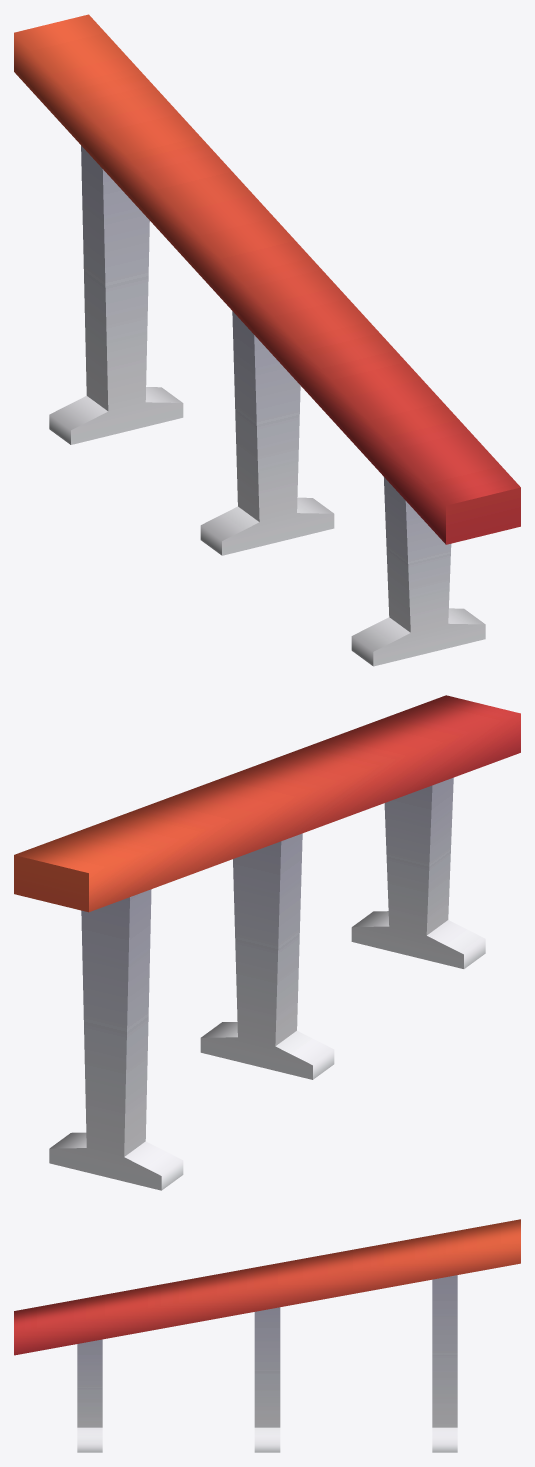
Rendered from rail-slope.glb.
The picture shows the model from 3 angles, top to bottom: view 1: azimuth 30°, elevation 25°; view 2: azimuth 150°, elevation 25°; view 3: azimuth 270°, elevation 25°; orthographic projection. The views are drawn at different scales.
Parts seen in each view (by area): view 1: rail-slope; view 2: rail-slope; view 3: rail-slope.
Boxes of the visible parts, x1,y1,x2,y2 form: rail-slope: [14, 14, 520, 666]; rail-slope: [14, 695, 520, 1190]; rail-slope: [14, 1219, 520, 1452].
Bounding box in the file's own units: 0.15 × 0.45 × 1.
Materials: 1 (1 with a texture image).
